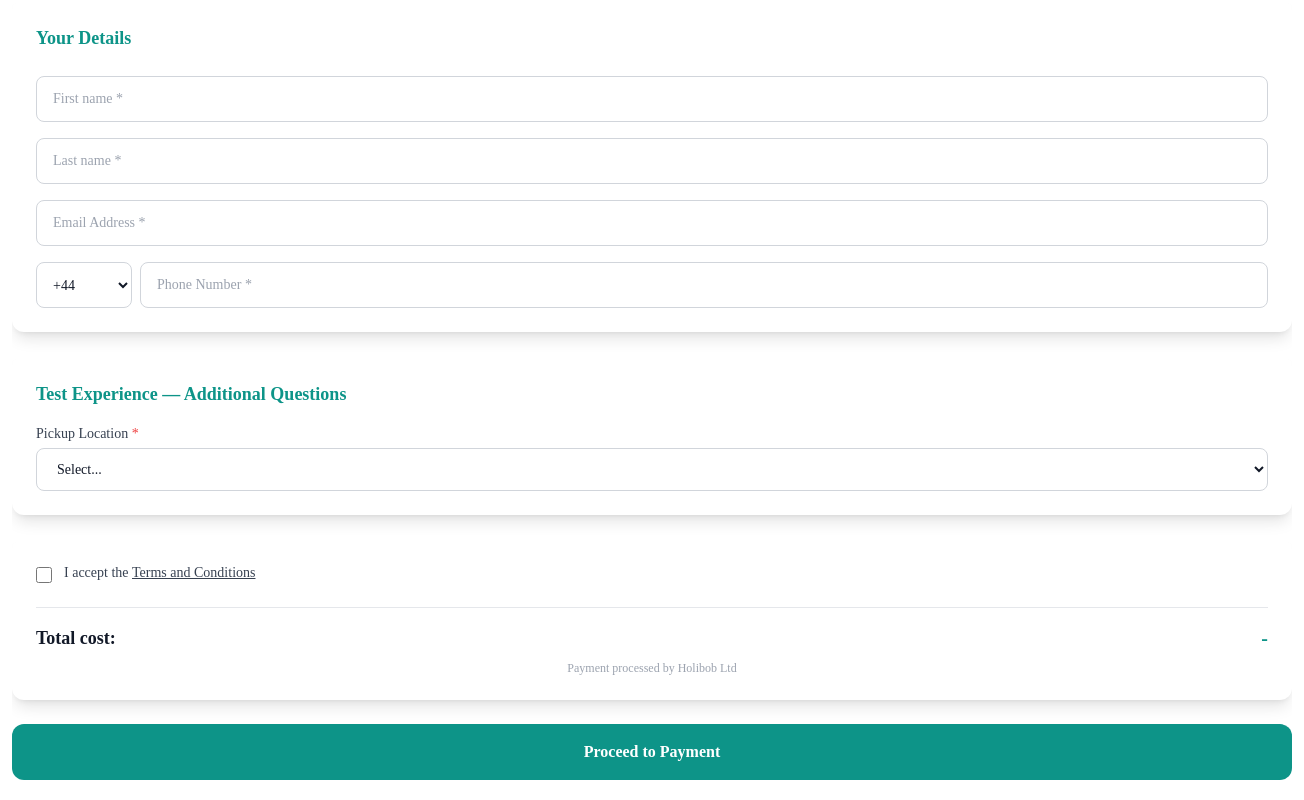
Test: QuestionsForm - Dynamic Questions › validates required dynamic questions on submit
Fill lead person but NOT the dynamic question
Type "John" into the field with placeholder "First name *" at (652, 99), box [36, 76, 1268, 122]
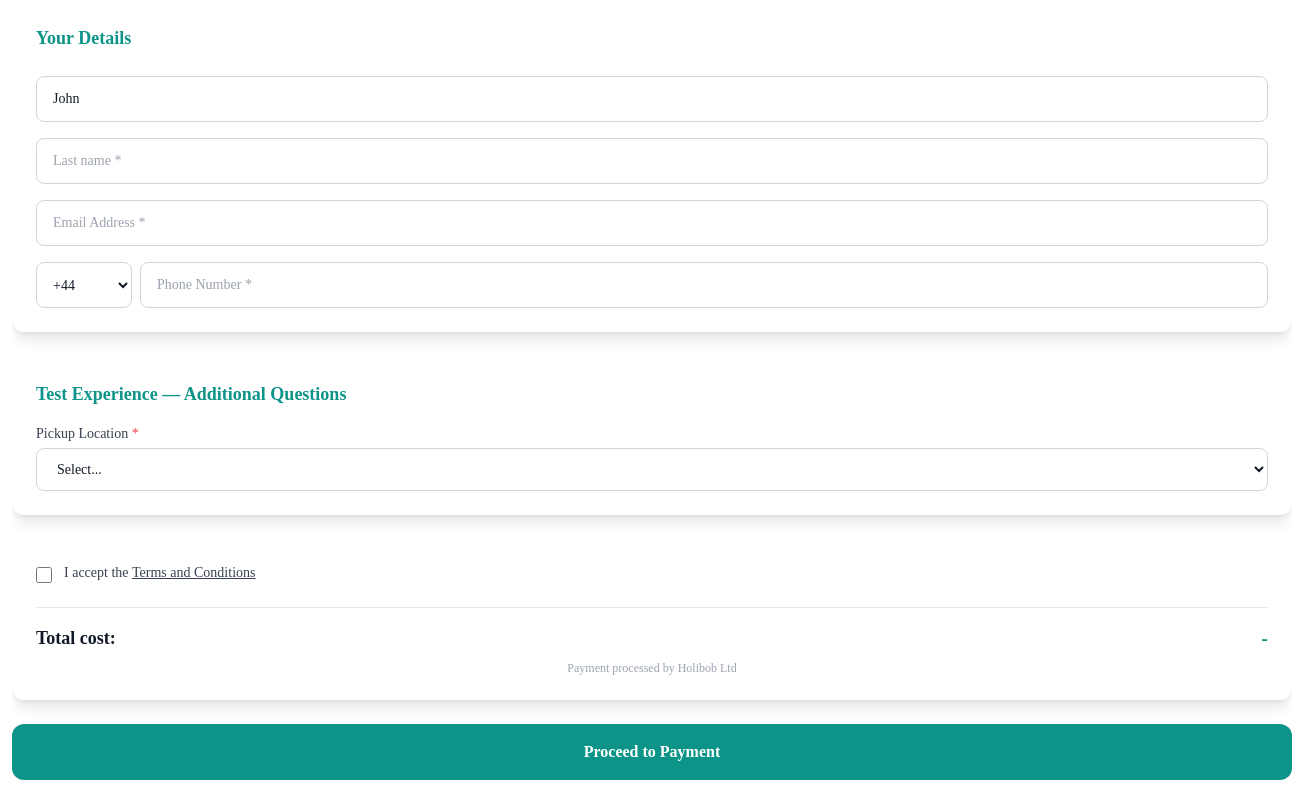
Type "Smith" into the field with placeholder "Last name *" at (652, 161), box [36, 138, 1268, 184]
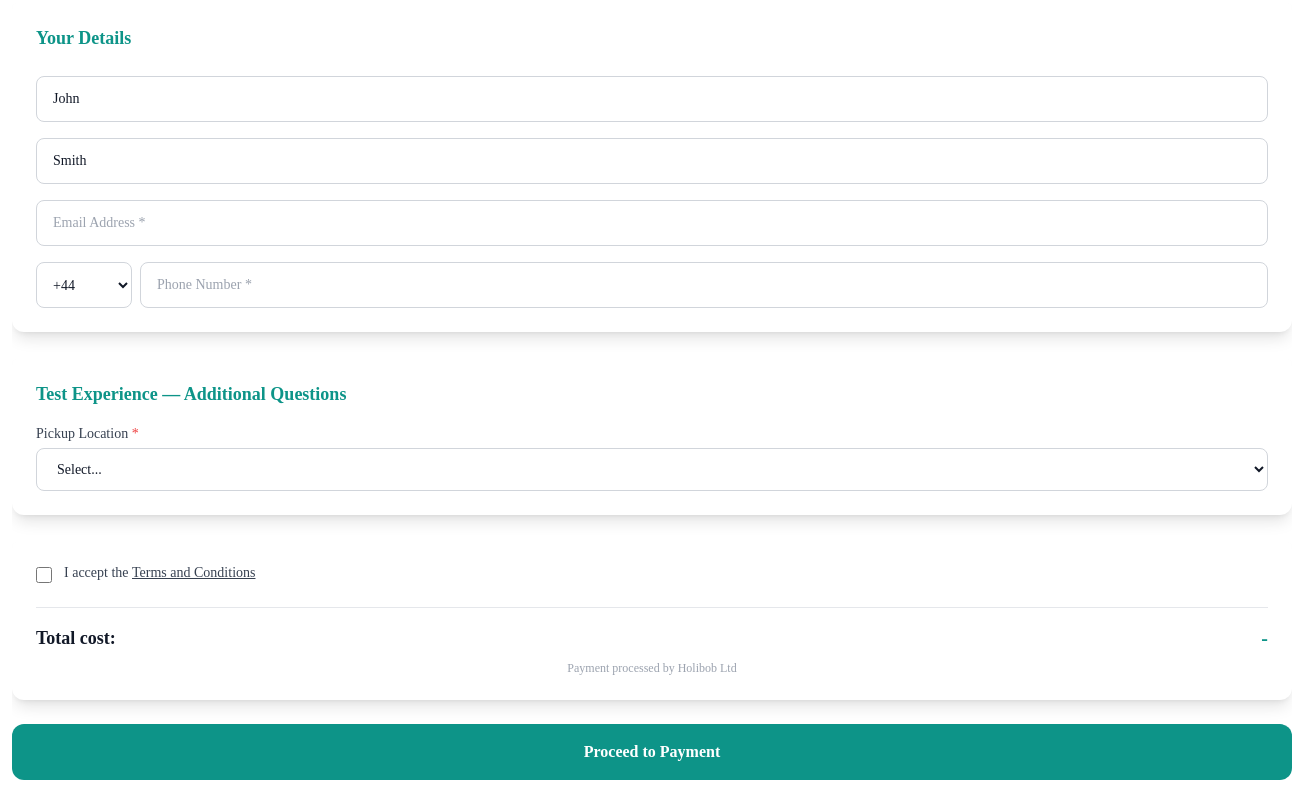
Type "john@test.com" into the field with placeholder "Email Address *" at (652, 223), box [36, 200, 1268, 246]
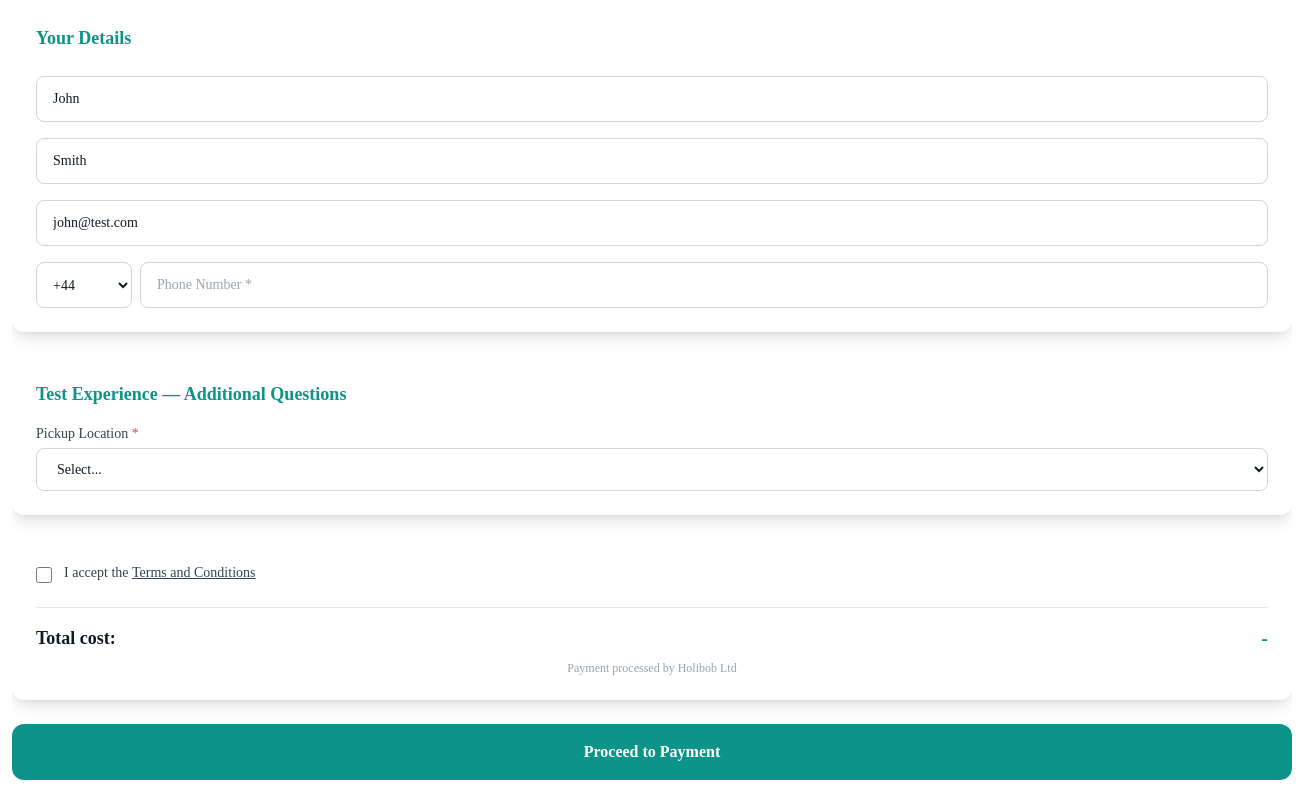
Type "123" into the field with placeholder "Phone Number *" at (704, 285), box [140, 262, 1268, 308]
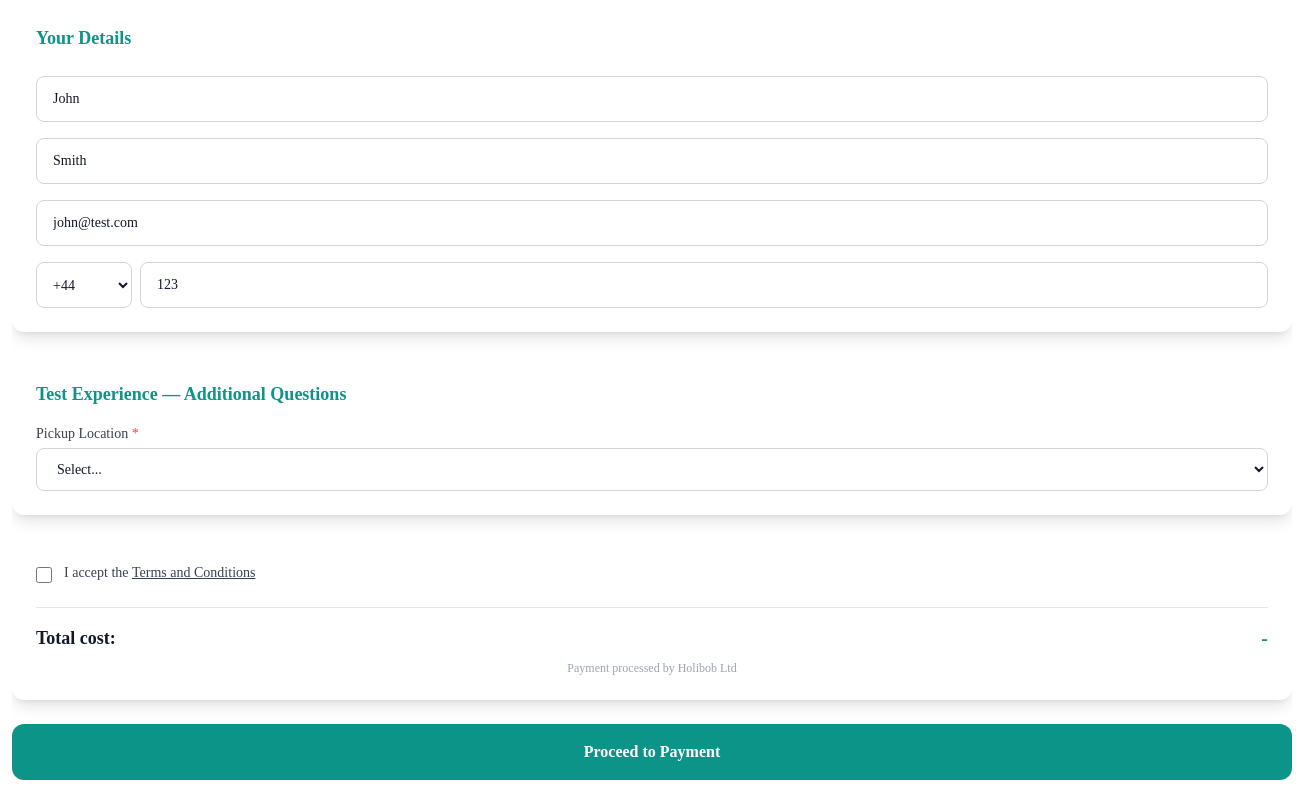
Click the checkbox with test id "terms-checkbox" at (44, 575), box [36, 567, 52, 583]
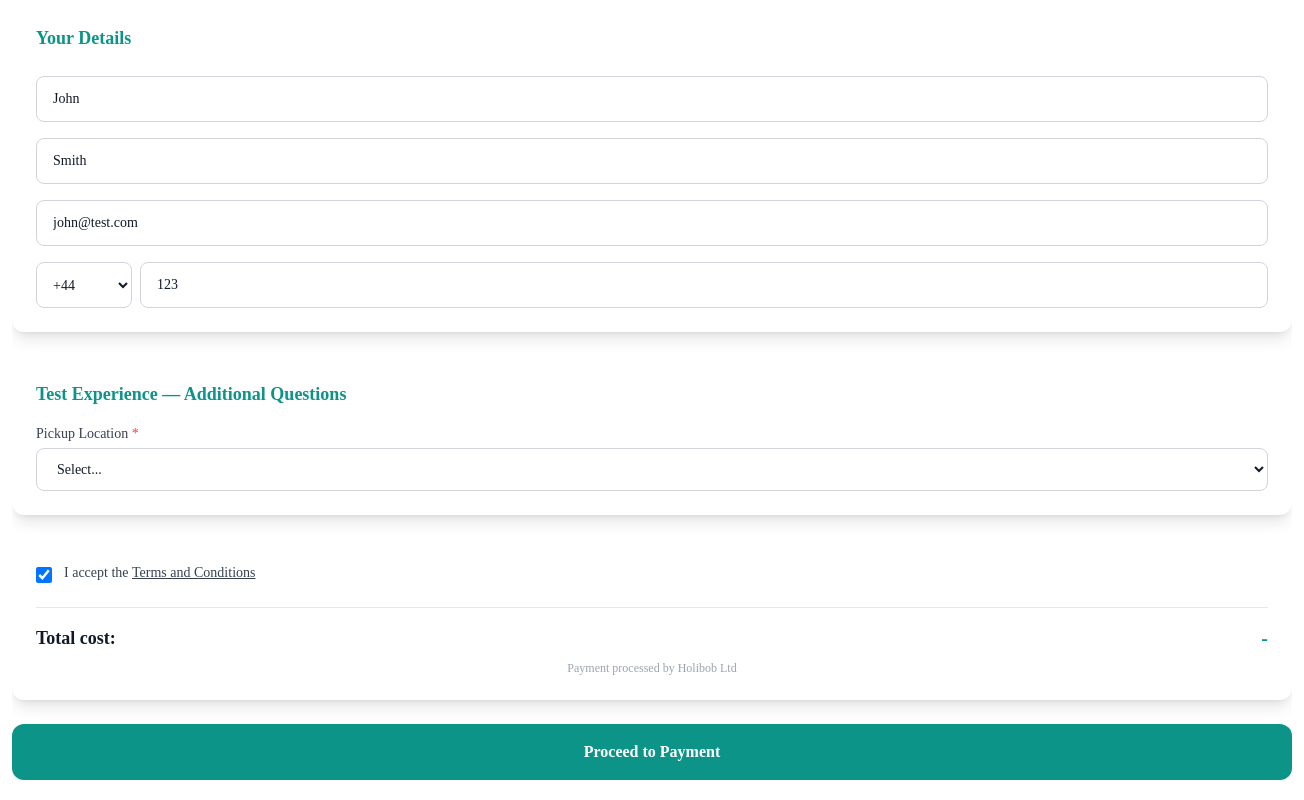
Click the button with test id "submit-questions" at (652, 752), box [12, 724, 1292, 780]
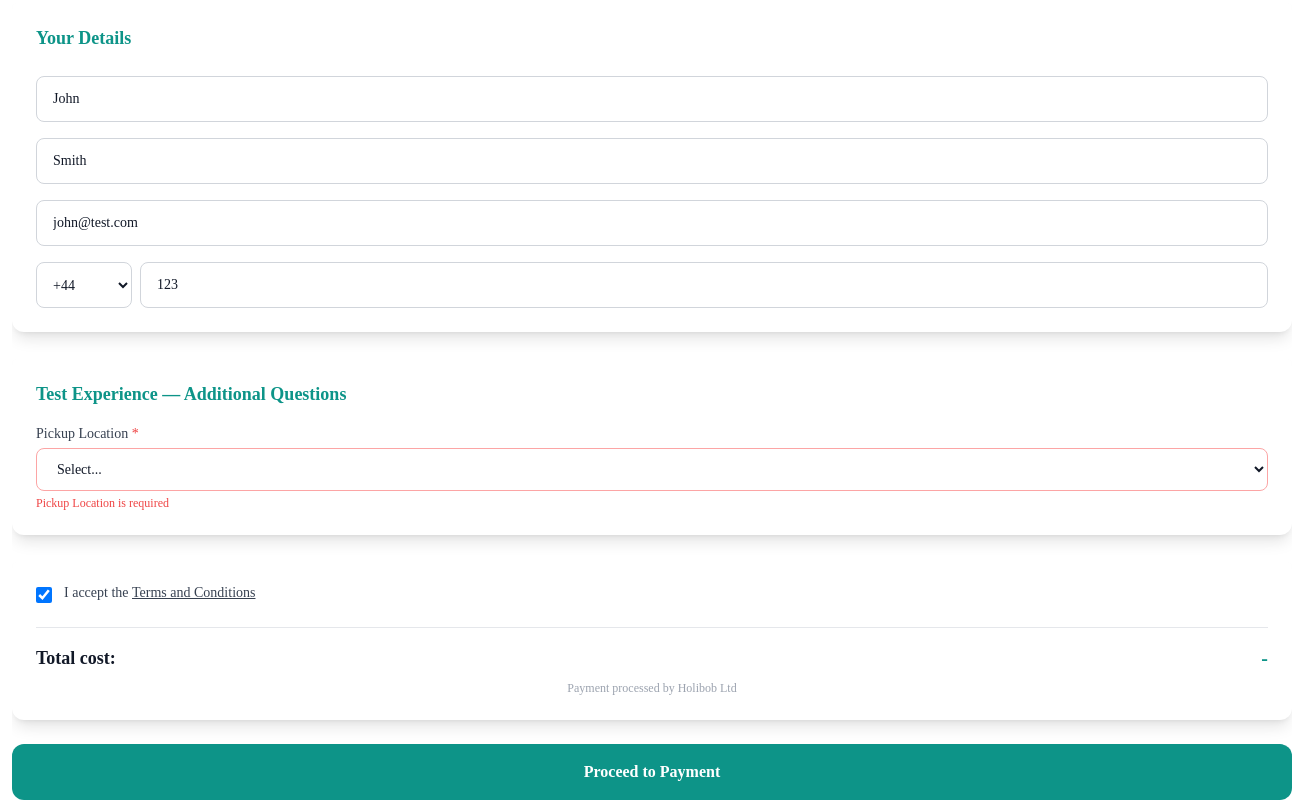
Check: the text "Pickup Location is required" is shown, box [36, 496, 169, 510]
